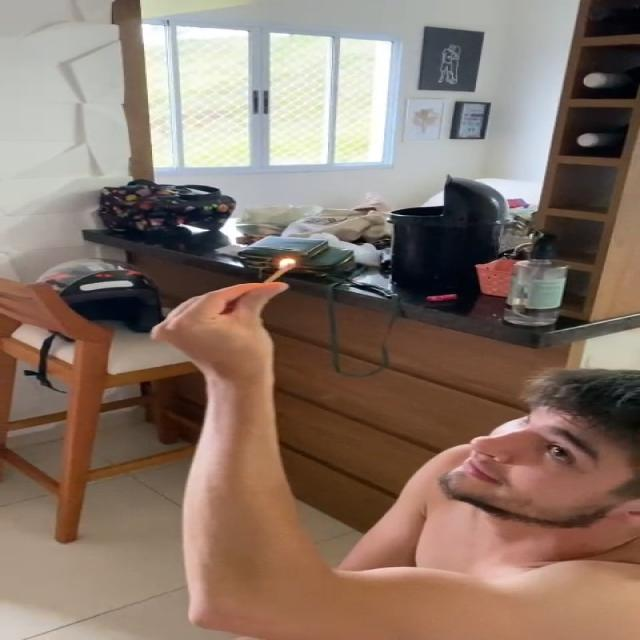fogo-ypXI: (276, 256, 298, 270)
